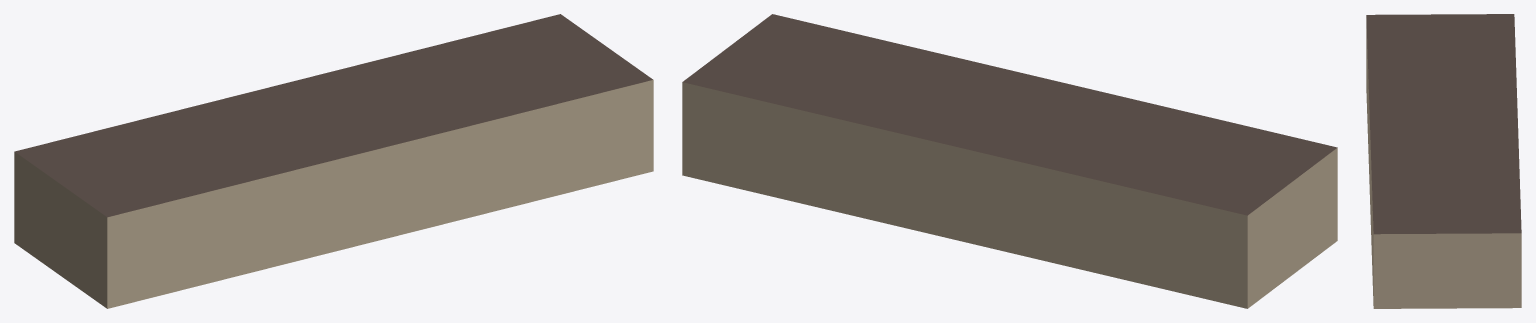
3 views of the same model, side by side, from view 1: azimuth 30°, elevation 25°; view 2: azimuth 150°, elevation 25°; view 3: azimuth 270°, elevation 25° (orthographic). The views are drawn at different scales.
Parts seen in each view (by area): view 1: HP-w501429425; view 2: HP-w501429425; view 3: HP-w501429425.
Part boxes in pixels (x1,y1,x2,y2): HP-w501429425: (14, 14, 653, 308); HP-w501429425: (682, 14, 1337, 308); HP-w501429425: (1366, 14, 1521, 308).
Bounding box in the file's own units: 56.83 × 9 × 16.93.
